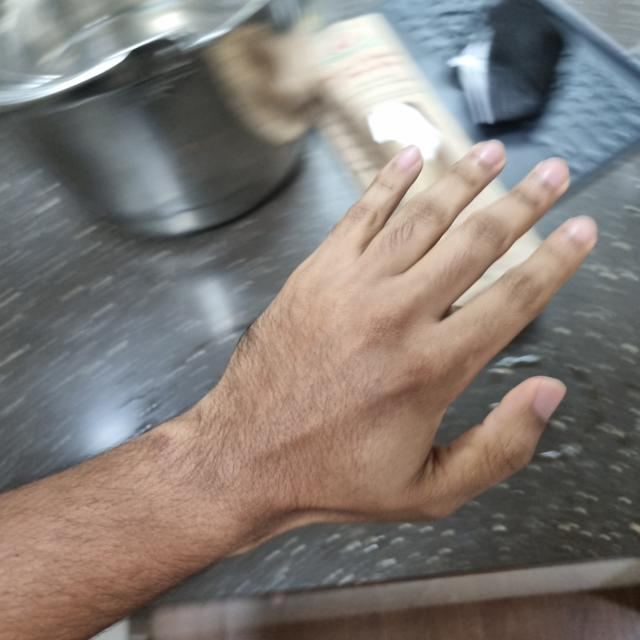Paper: (200, 148, 585, 521)
